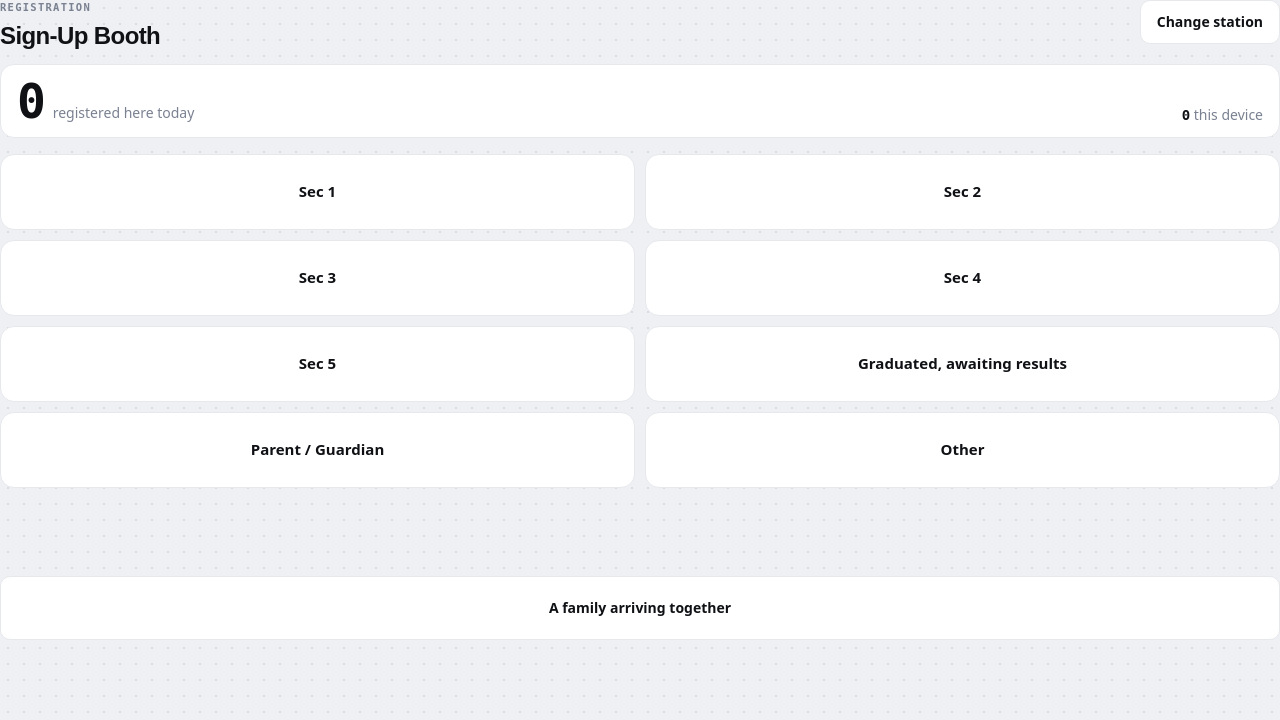
Test: Registration screen › FR-REG-3: Undo removes the last tap (the whole family for a family)
expect the heading "Sign-Up Booth" is shown: met, box left=0, top=20, right=160, bottom=52
expect the text with test id "station-total" reads "0": met, box left=17, top=73, right=45, bottom=129
Click the button "Sec 1": click(318, 192) left=0, top=154, right=635, bottom=230
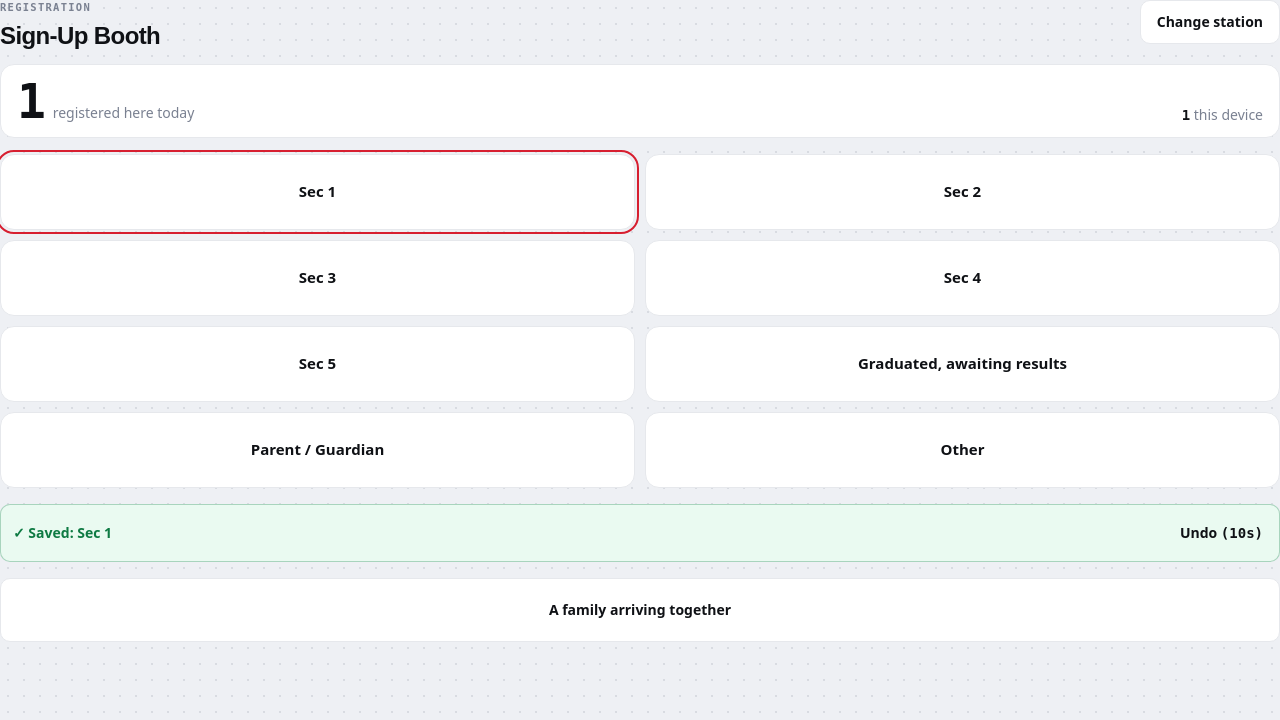
Click the button "A family arriving together": click(640, 610) left=0, top=578, right=1279, bottom=642
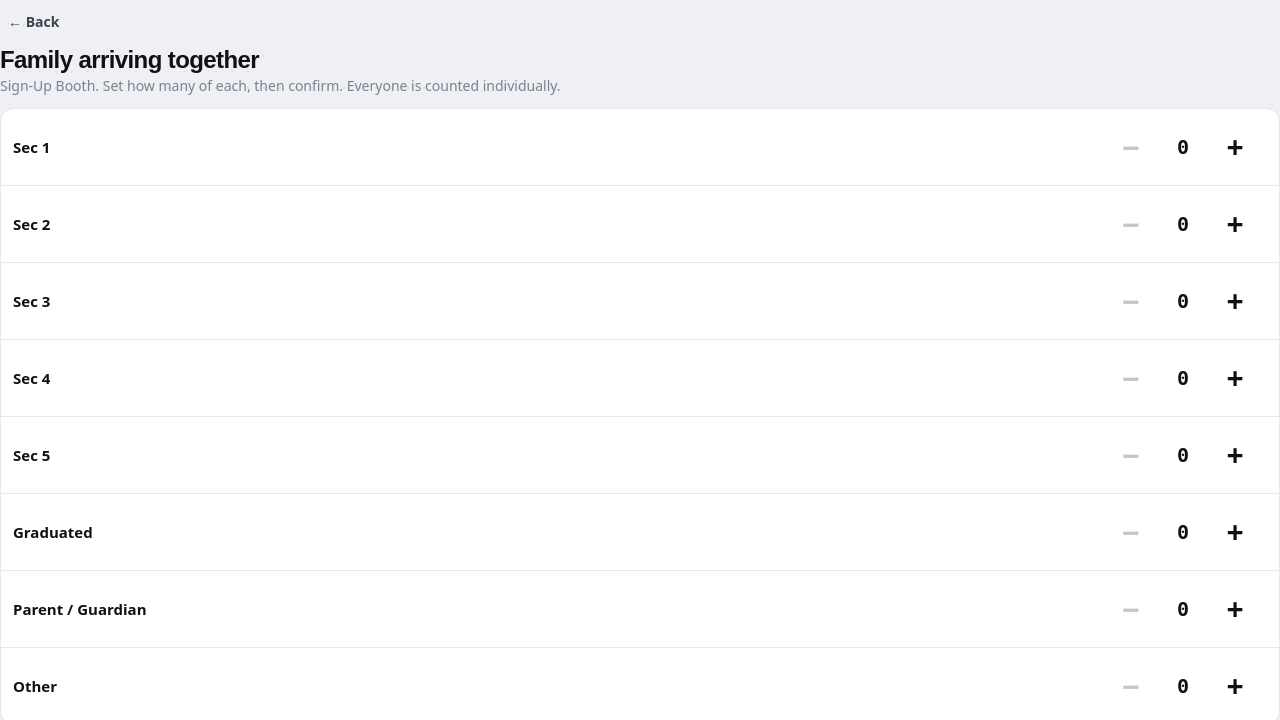
Click the button named "One more Sec 2": click(1235, 224) left=1203, top=192, right=1267, bottom=256
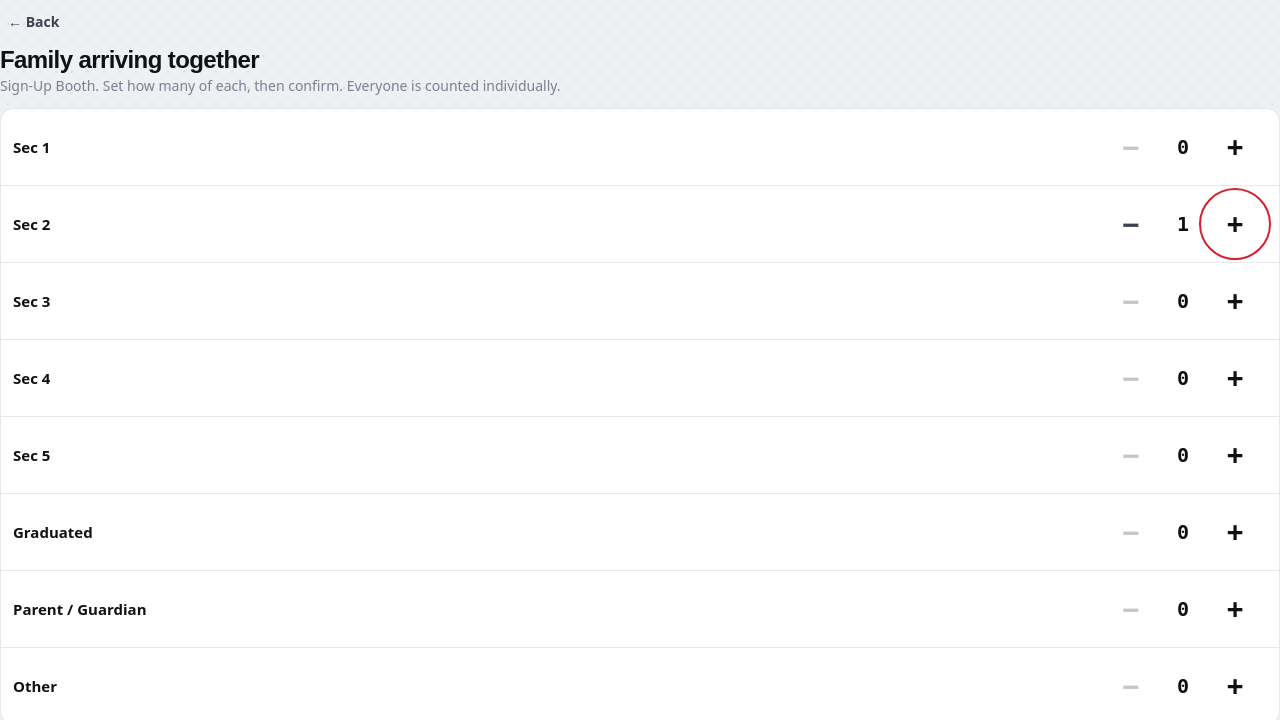
Click the button named "One more Sec 3": click(1235, 301) left=1203, top=269, right=1267, bottom=333
(page scrolled)
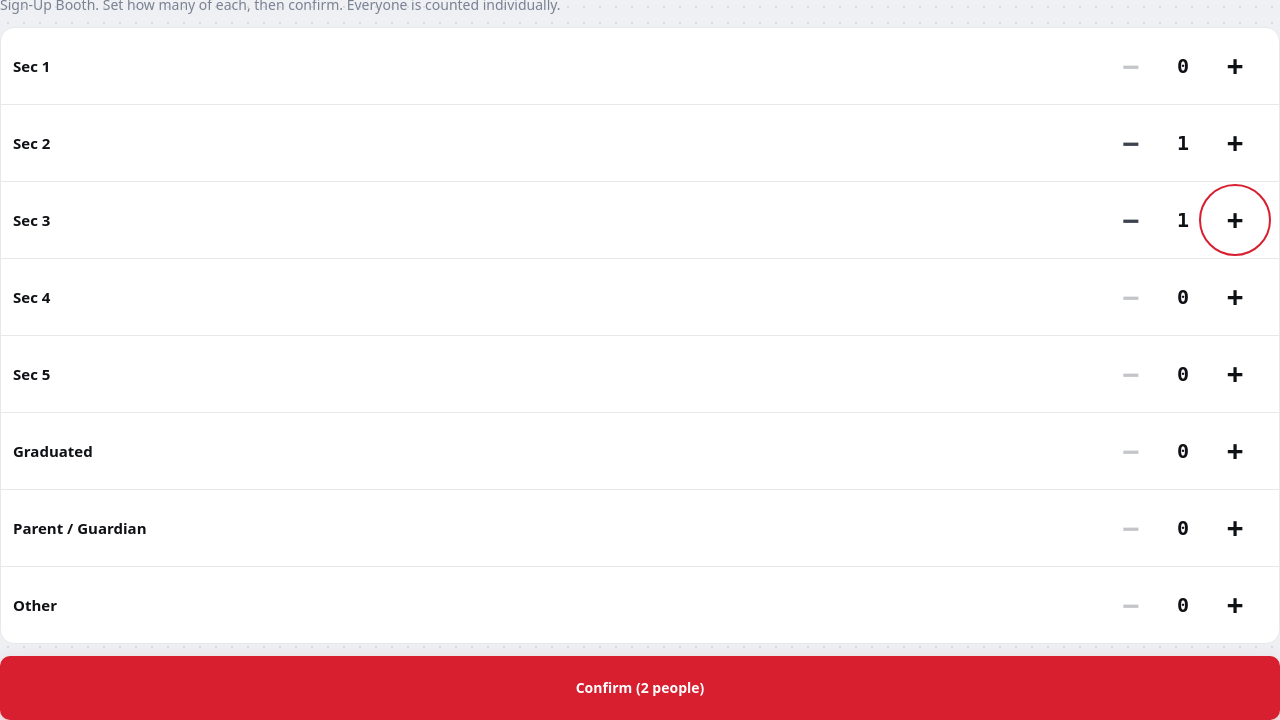
Click the button "Confirm (2 people)": click(640, 688) left=0, top=656, right=1279, bottom=719
(page scrolled)
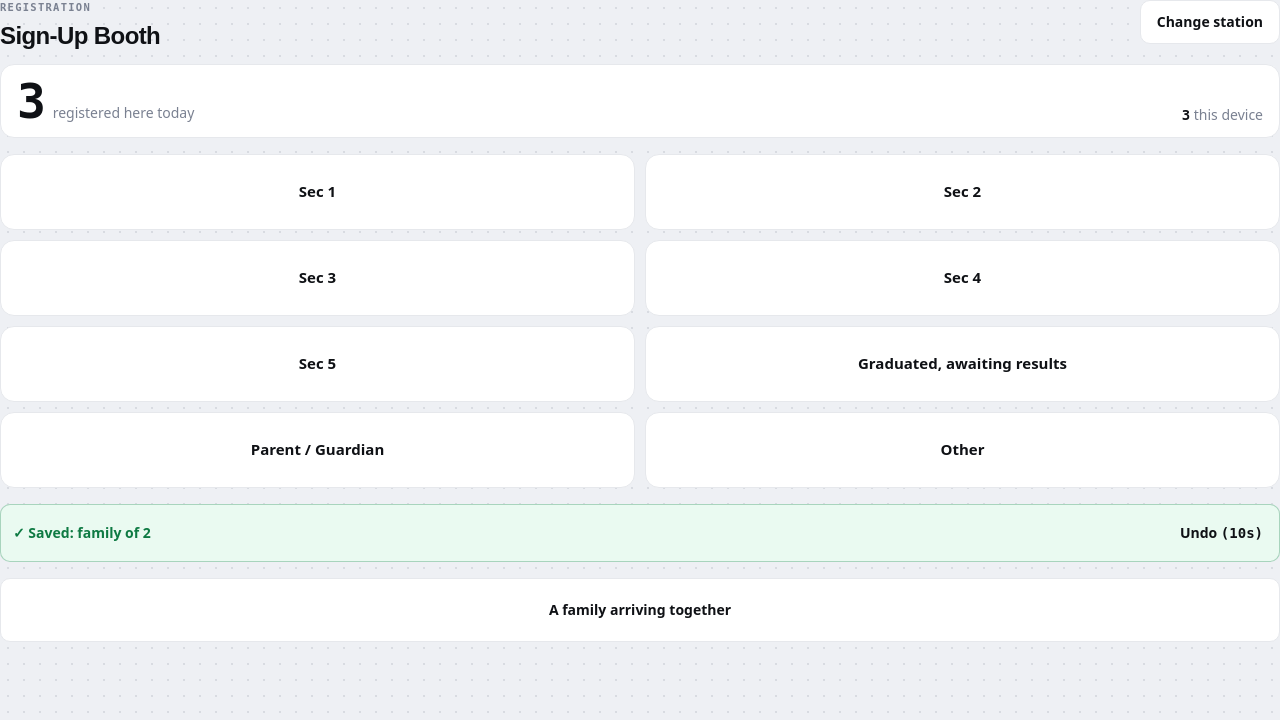
expect the text "✓ Saved: family of 2" is shown: met, box left=13, top=523, right=151, bottom=543
expect the text with test id "station-total" reads "3": met, box left=17, top=73, right=45, bottom=129
Click the button "Undo (10s)": click(1221, 533) left=1164, top=505, right=1279, bottom=561
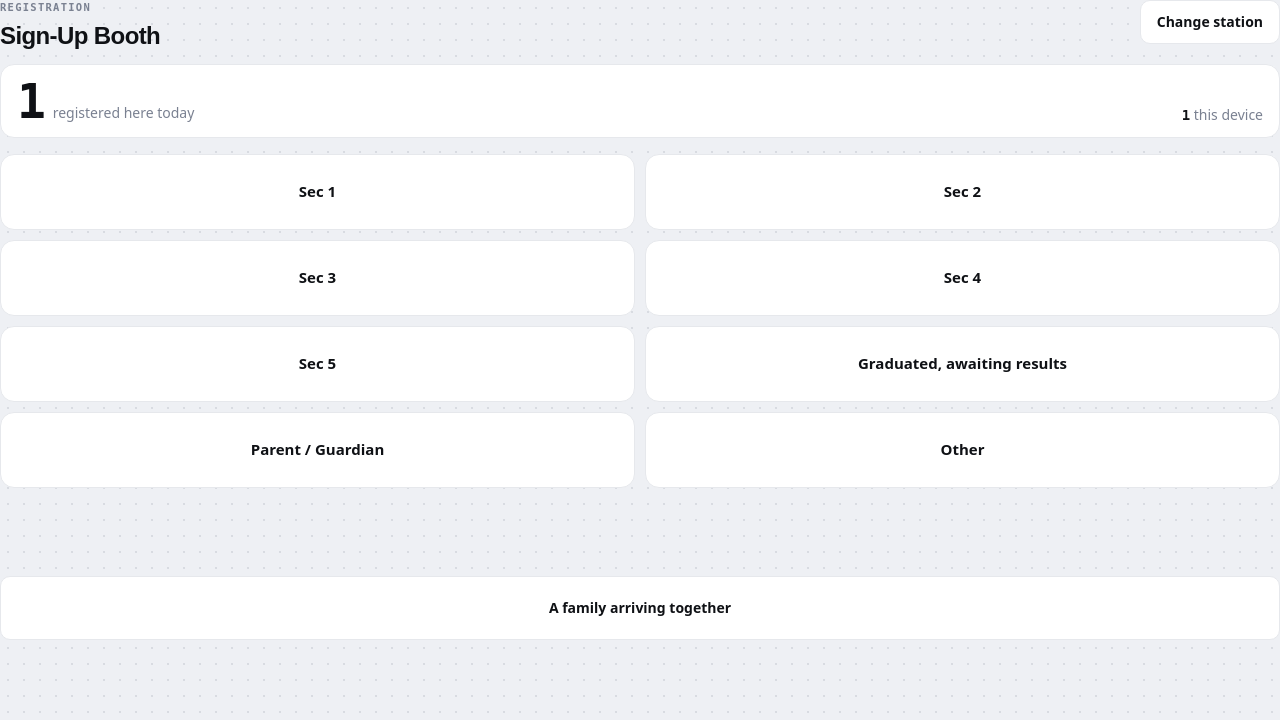
expect the text with test id "station-total" reads "1": met, box left=17, top=73, right=45, bottom=129
expect the text "Saved:" is gone: met
